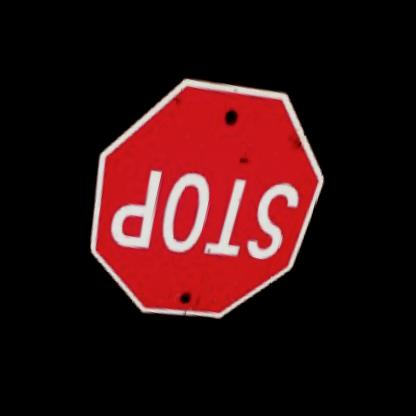stop: (62, 59, 341, 350)
